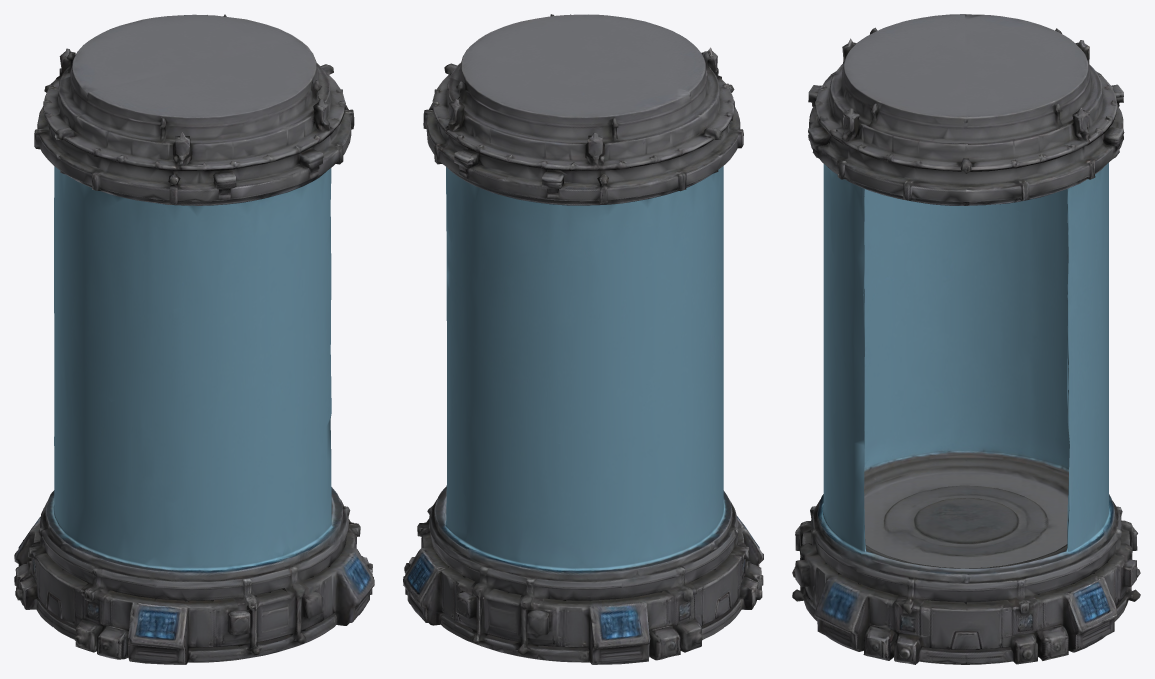
File: original.glb
The picture shows the model from 3 angles, left to right: view 1: azimuth 30°, elevation 25°; view 2: azimuth 150°, elevation 25°; view 3: azimuth 270°, elevation 25°; orthographic projection.
Parts seen in each view (by area): view 1: tripo_node_6021e6ee-ec7b-4781-bf09-8faaf6a80663_0; view 2: tripo_node_6021e6ee-ec7b-4781-bf09-8faaf6a80663_0; view 3: tripo_node_6021e6ee-ec7b-4781-bf09-8faaf6a80663_0.
Boxes of the visible parts, x1,y1,x2,y2 form: tripo_node_6021e6ee-ec7b-4781-bf09-8faaf6a80663_0: [14, 14, 374, 664]; tripo_node_6021e6ee-ec7b-4781-bf09-8faaf6a80663_0: [403, 14, 763, 664]; tripo_node_6021e6ee-ec7b-4781-bf09-8faaf6a80663_0: [792, 14, 1140, 664].
Size of the model in its own units: 0.5842 by 1 by 0.592.
1 material, 1 textured.
